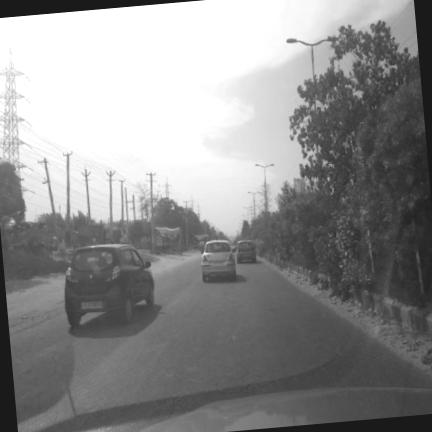Road: (11, 258, 431, 431)
